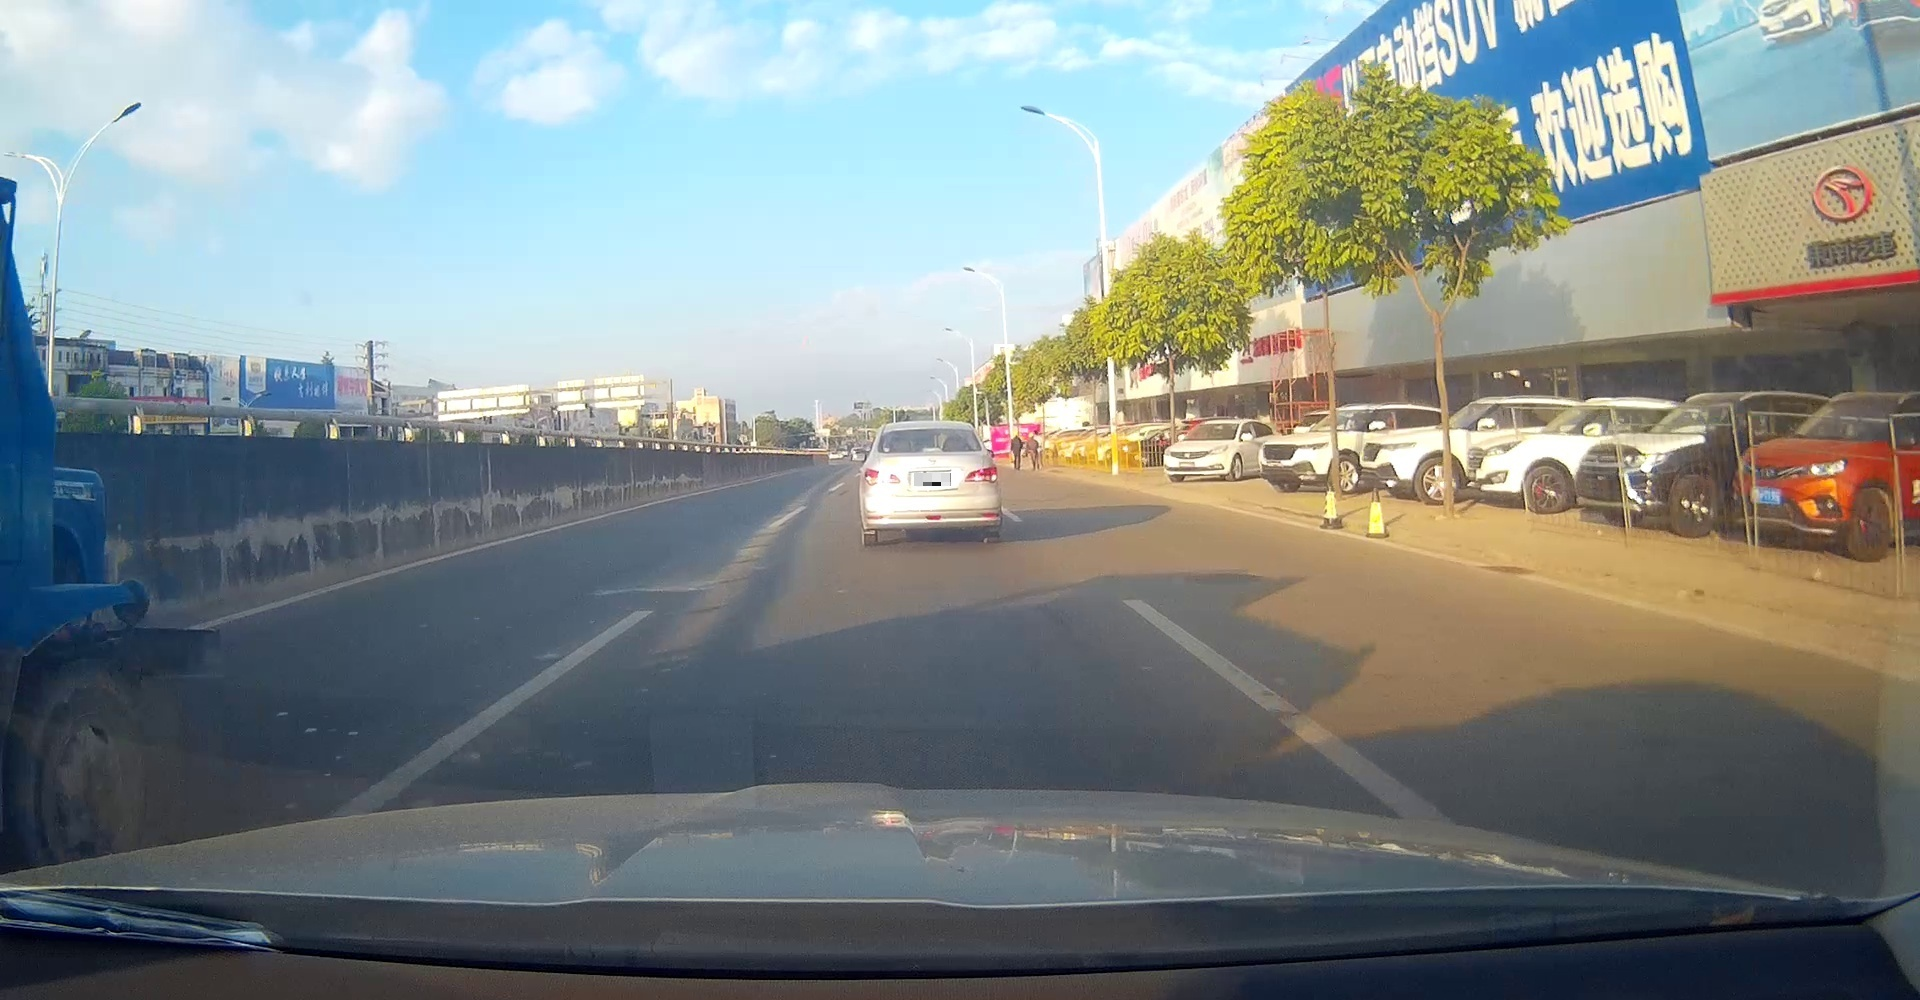L_light: (863, 467, 902, 486)
R_light: (964, 464, 998, 484)
T_light: (921, 447, 942, 452)
day-no: (862, 420, 1003, 544)
plate_1: (914, 473, 951, 486)
